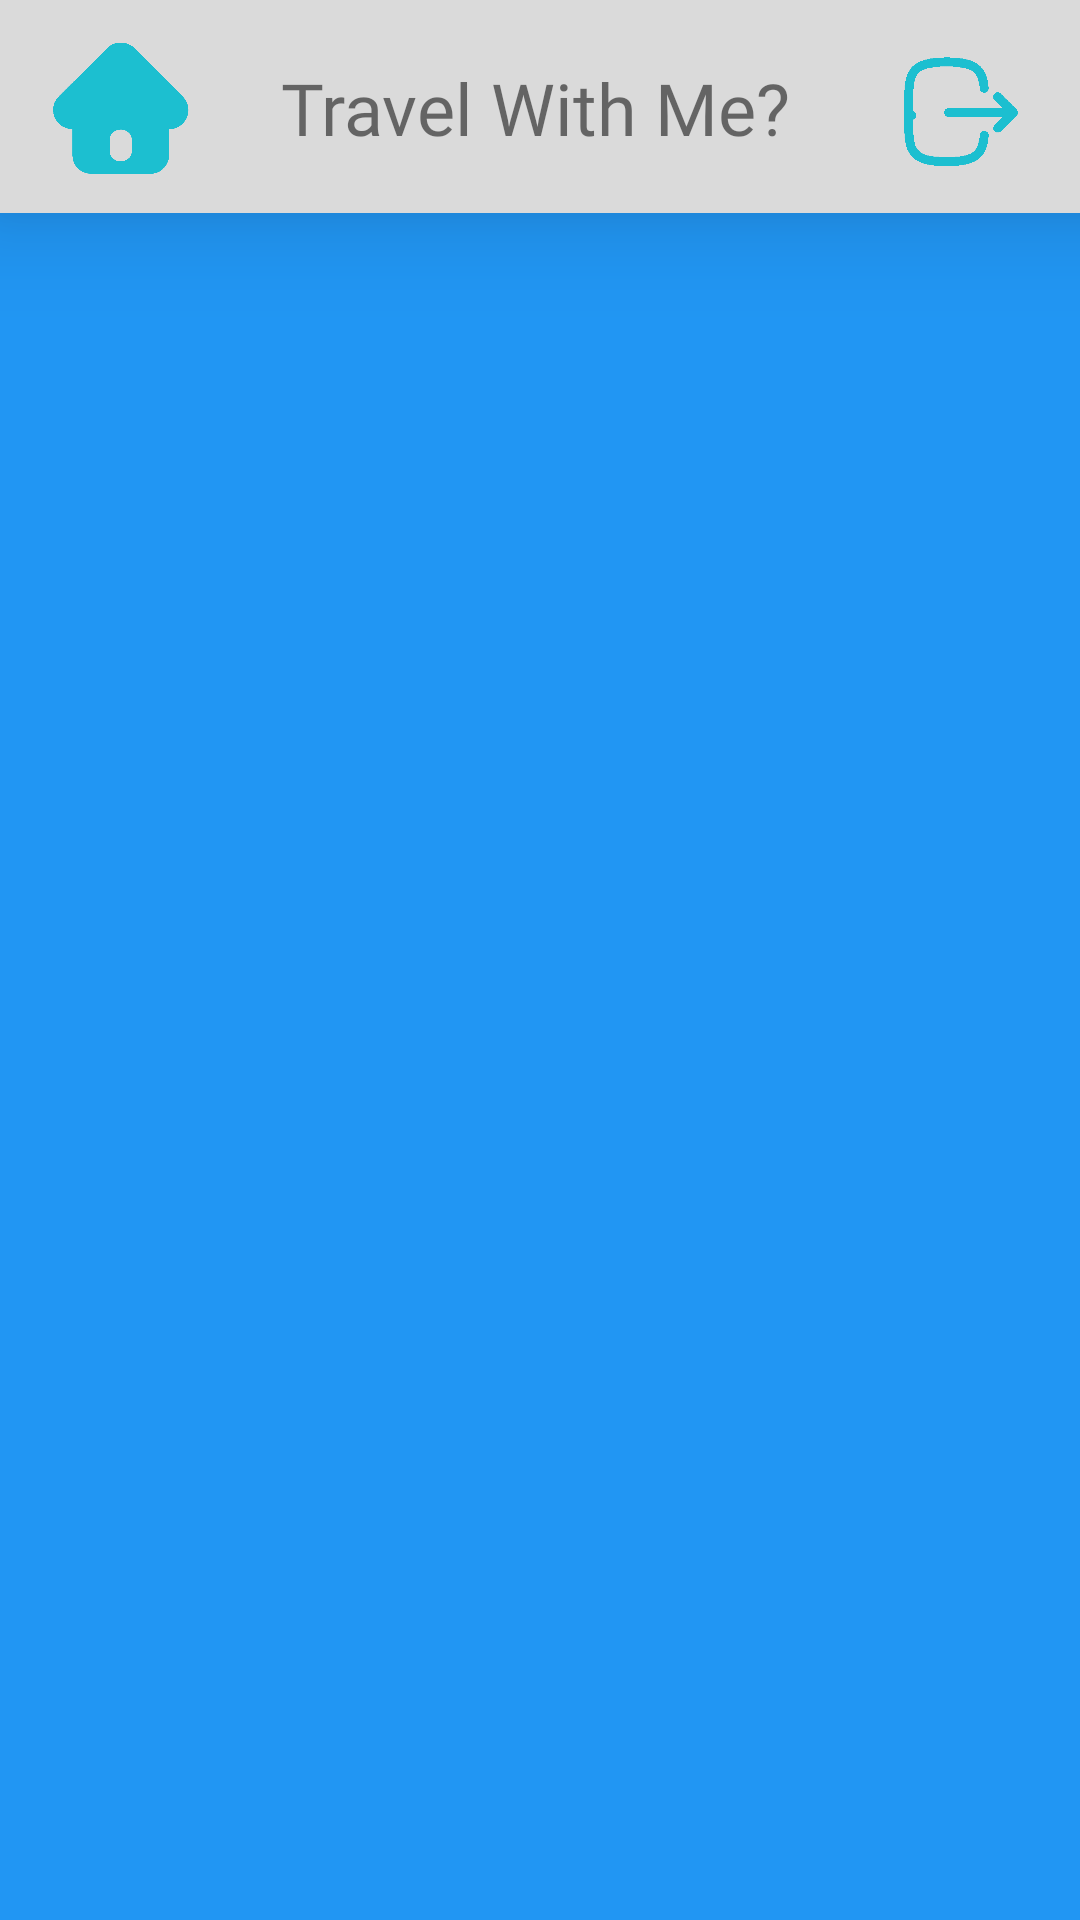

Named icons in this screenshot (1080px×1920px) and their centers, (x=x, y=y):
rumah: (x=121, y=108)
